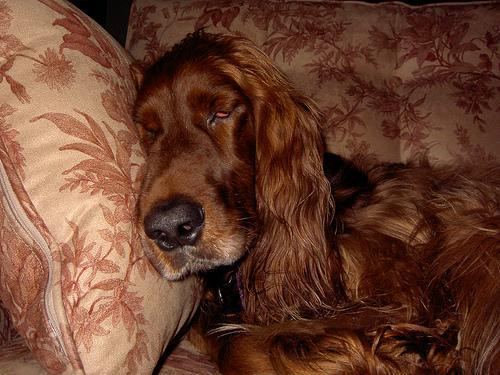Irish_setter: (127, 25, 499, 374)
